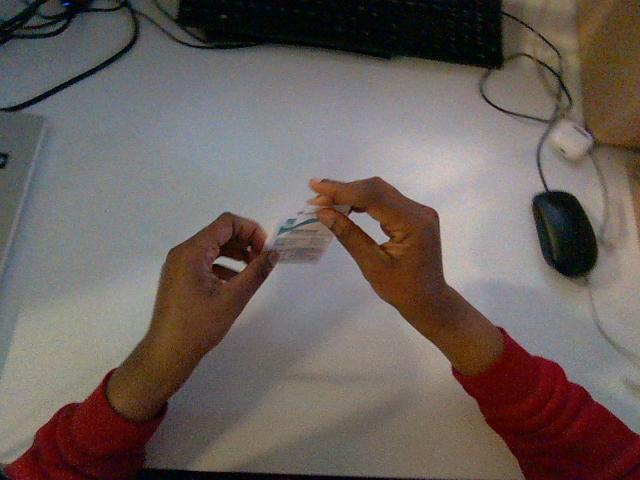gauze: (266, 206, 333, 263), (326, 205, 350, 214)
